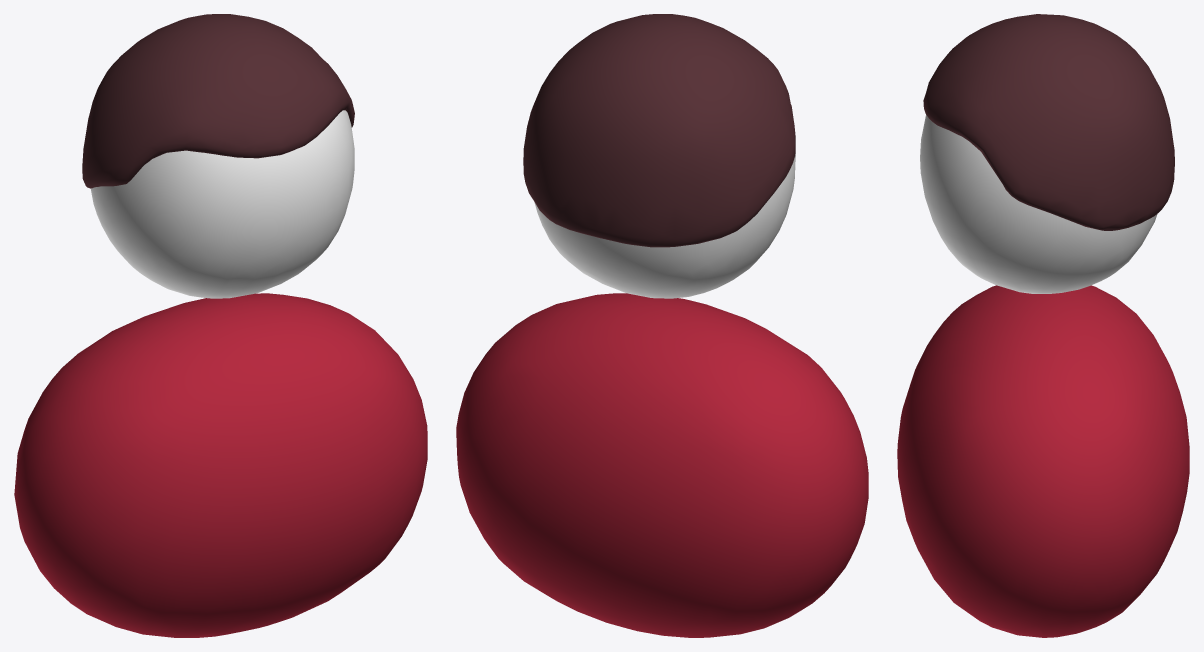
Rendered from boy.glb.
3 renders of one model, left to right at view 1: azimuth 30°, elevation 25°; view 2: azimuth 150°, elevation 25°; view 3: azimuth 270°, elevation 25°, orthographic.
Visible parts, largest first — view 1: Boy; view 2: Boy; view 3: Boy.
Part boxes in pixels (x1,y1,x2,y2): Boy: [14, 14, 427, 637]; Boy: [456, 14, 868, 637]; Boy: [897, 14, 1189, 637].
Bounding box in the file's own units: 1.23 × 1.82 × 0.8297.
